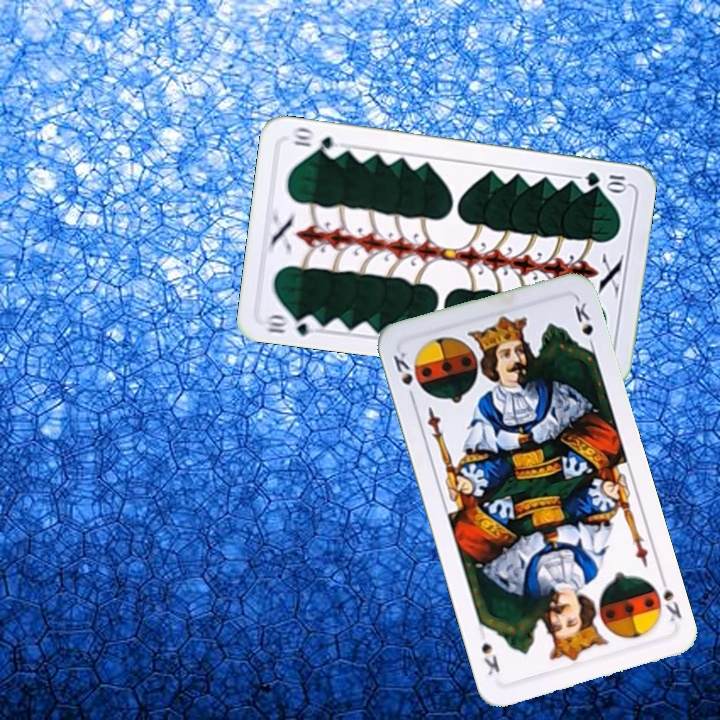G10: (261, 310, 321, 338), (580, 168, 631, 193)
SK: (389, 348, 425, 404), (655, 571, 685, 625)
